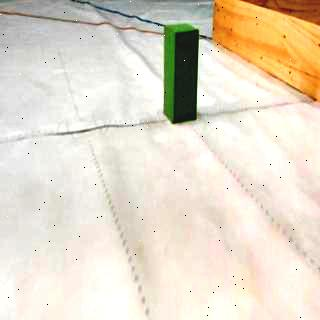greenbox: (162, 21, 200, 125)
